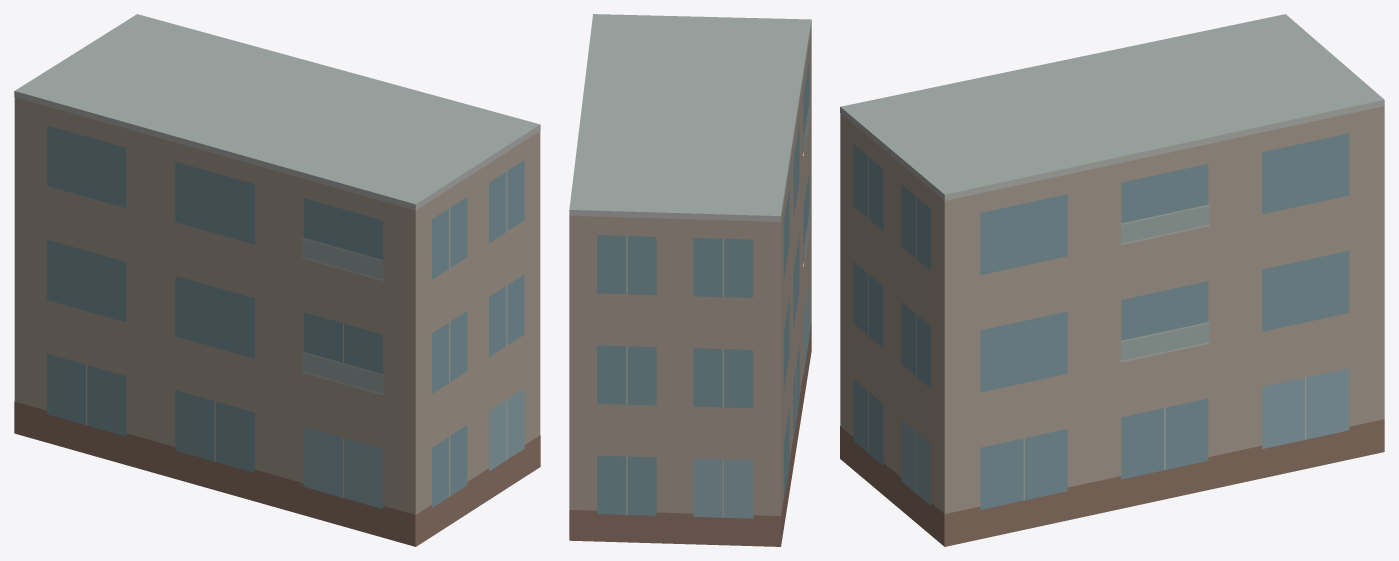
Rendered from survey-upis-33045217.glb.
3 renders of one model, left to right at view 1: azimuth 30°, elevation 25°; view 2: azimuth 150°, elevation 25°; view 3: azimuth 270°, elevation 25°, orthographic. The views are drawn at different scales.
Visible parts, largest first — view 1: survey-upis-33045217.tmp; view 2: survey-upis-33045217.tmp; view 3: survey-upis-33045217.tmp.
Part boxes in pixels (left/top/right/bottom): survey-upis-33045217.tmp: left=14, top=14, right=540, bottom=546; survey-upis-33045217.tmp: left=569, top=14, right=811, bottom=546; survey-upis-33045217.tmp: left=840, top=14, right=1384, bottom=546.
Bounding box in the file's own units: 15.09 × 13.7 × 19.2.
